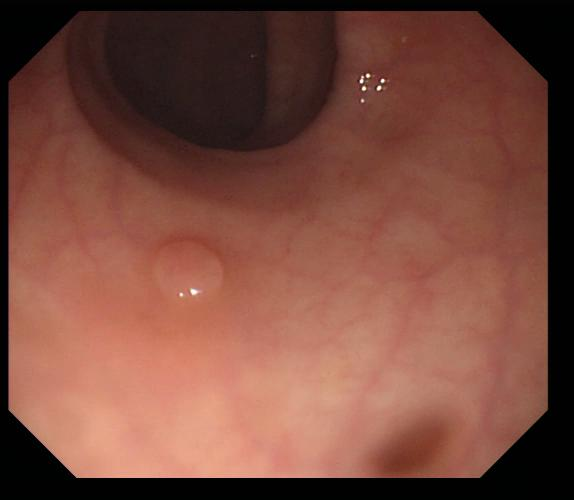polyp: (150, 238, 226, 312)
